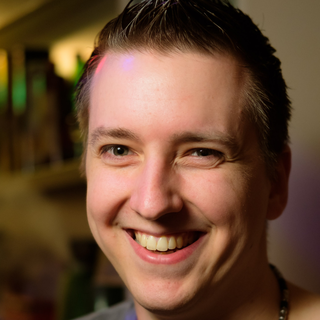eye: (178, 142, 228, 165), (97, 139, 140, 164)
